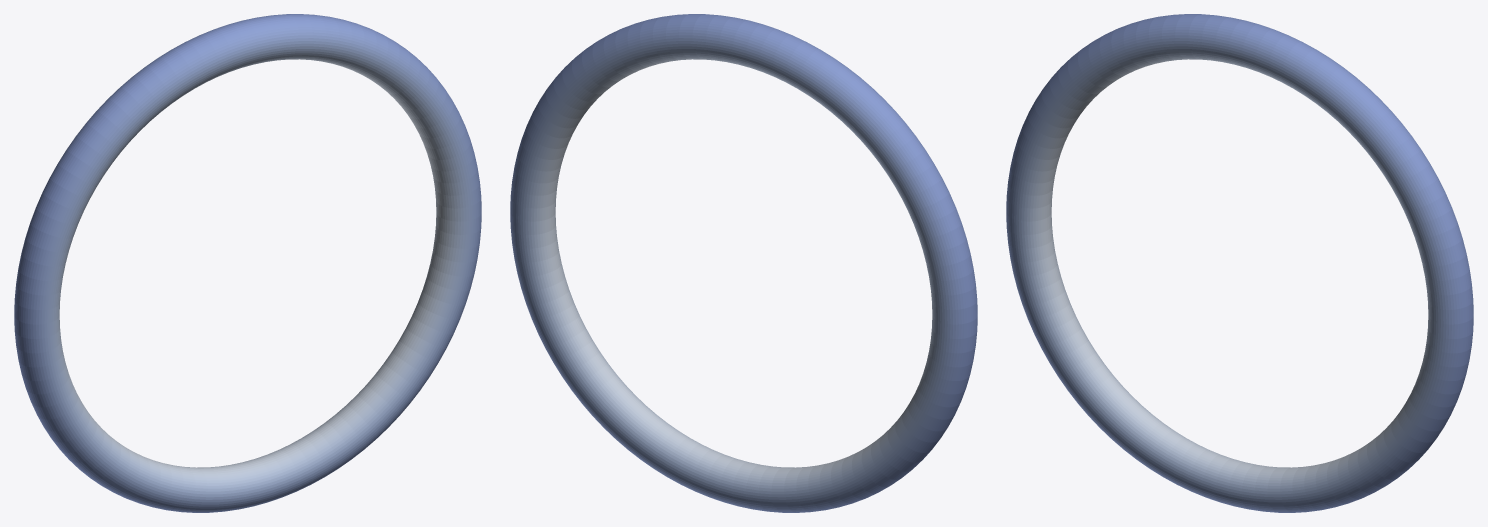
The picture shows the model from 3 angles, left to right: view 1: azimuth 30°, elevation 25°; view 2: azimuth 150°, elevation 25°; view 3: azimuth 330°, elevation 25°; orthographic projection.
Visible parts, largest first — view 1: world; view 2: world; view 3: world.
Part boxes in pixels (<box>): world: <box>14,14,481,512</box>; world: <box>510,14,977,512</box>; world: <box>1006,14,1473,512</box>.
Bounding box in the file's own units: 32.8 × 32.8 × 2.79.
